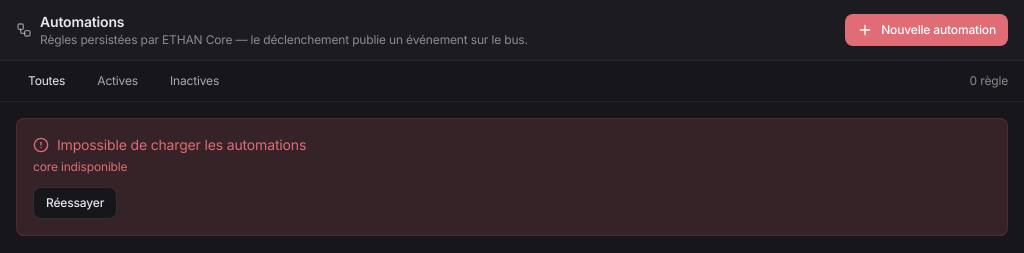
it: AutomationsWorkspace — états honnêtes › erreur Core : message explicite + Réessayer relance
Expected: the text "Impossible de charger les automations" is shown, x1=33 y1=136 x2=306 y2=153
Click the button "Réessayer" at (75, 203), box x1=33 y1=187 x2=117 y2=219
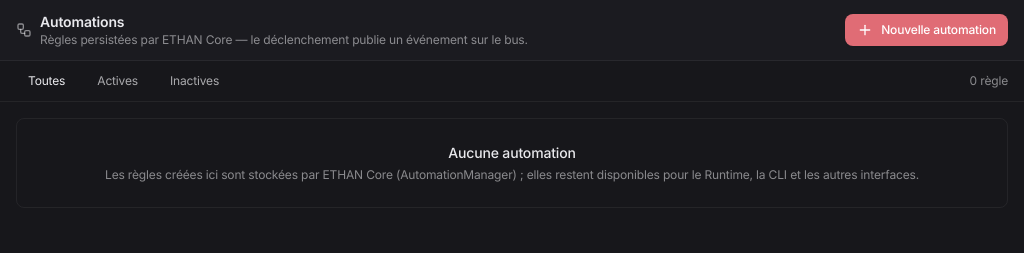
Expected: the text "Aucune automation" is shown, x1=448 y1=144 x2=576 y2=161
